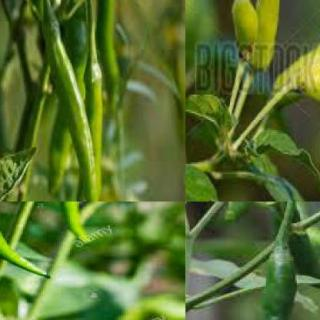green_chilli: (32, 0, 101, 201), (66, 60, 107, 201), (230, 250, 305, 319), (0, 201, 52, 282), (273, 37, 319, 108), (280, 208, 319, 290), (253, 0, 284, 72), (228, 0, 258, 56), (56, 202, 92, 246)
